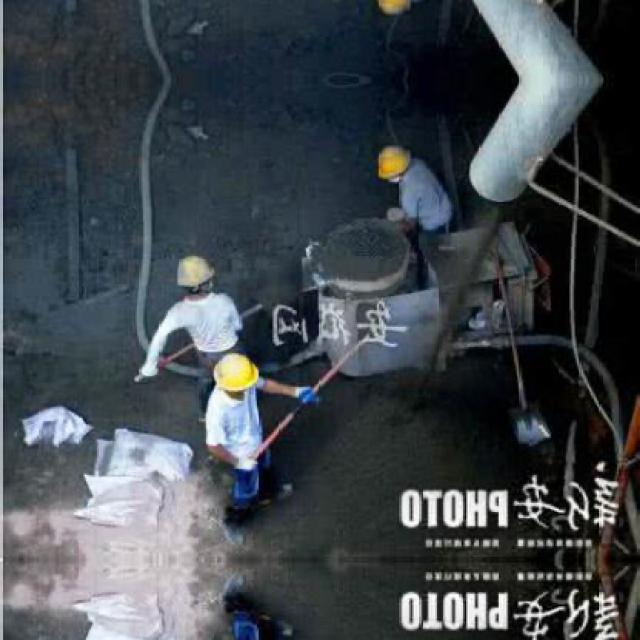helmet: (210, 350, 262, 403), (176, 250, 216, 301), (374, 144, 417, 184), (372, 0, 417, 19)
